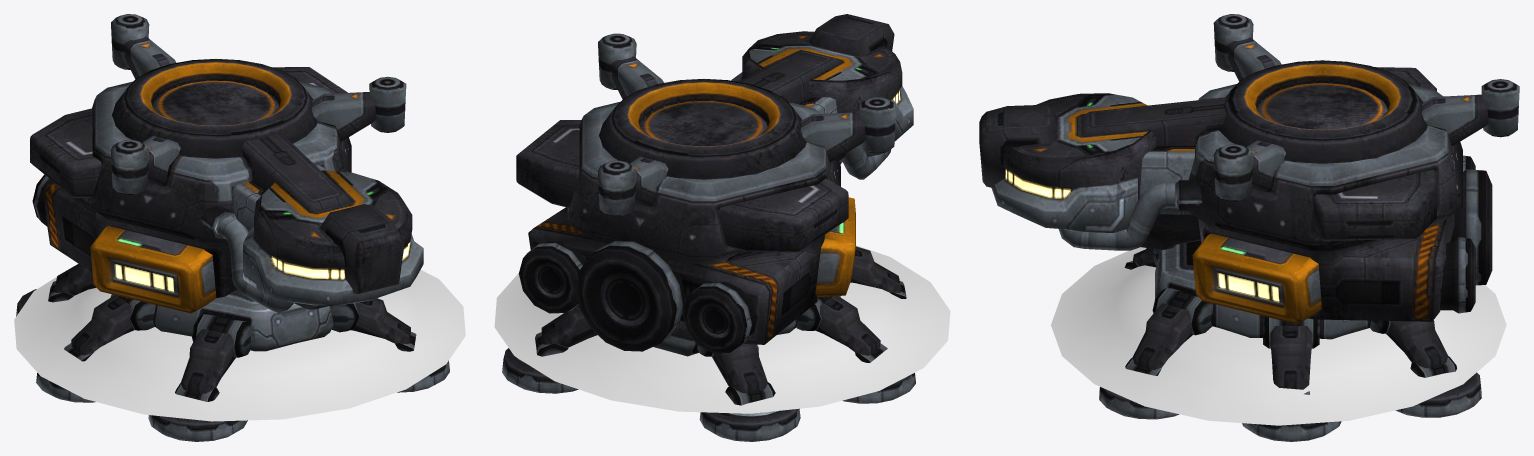
File: StarportEx1.glb
3 renders of one model, left to right at view 1: azimuth 30°, elevation 25°; view 2: azimuth 150°, elevation 25°; view 3: azimuth 270°, elevation 25°, orthographic. The views are drawn at different scales.
Visible parts, largest first — view 1: Mesh, Sphere01distortion02, Mesh.001; view 2: Mesh, Mesh.001, Sphere01distortion02; view 3: Mesh, Mesh.001, Sphere01distortion02.
Part boxes in pixels (bbox=[...]): Mesh: bbox=[30, 59, 423, 313]; Sphere01distortion02: bbox=[14, 266, 465, 421]; Mesh.001: bbox=[16, 14, 449, 441]; Mesh: bbox=[516, 14, 913, 344]; Mesh.001: bbox=[502, 33, 915, 441]; Sphere01distortion02: bbox=[494, 245, 950, 413]; Mesh: bbox=[979, 60, 1462, 324]; Mesh.001: bbox=[1058, 14, 1519, 441]; Sphere01distortion02: bbox=[1051, 247, 1506, 425].
Size of the model in its own units: 4.48 by 2.75 by 5.08.
3 materials, 2 textured.
